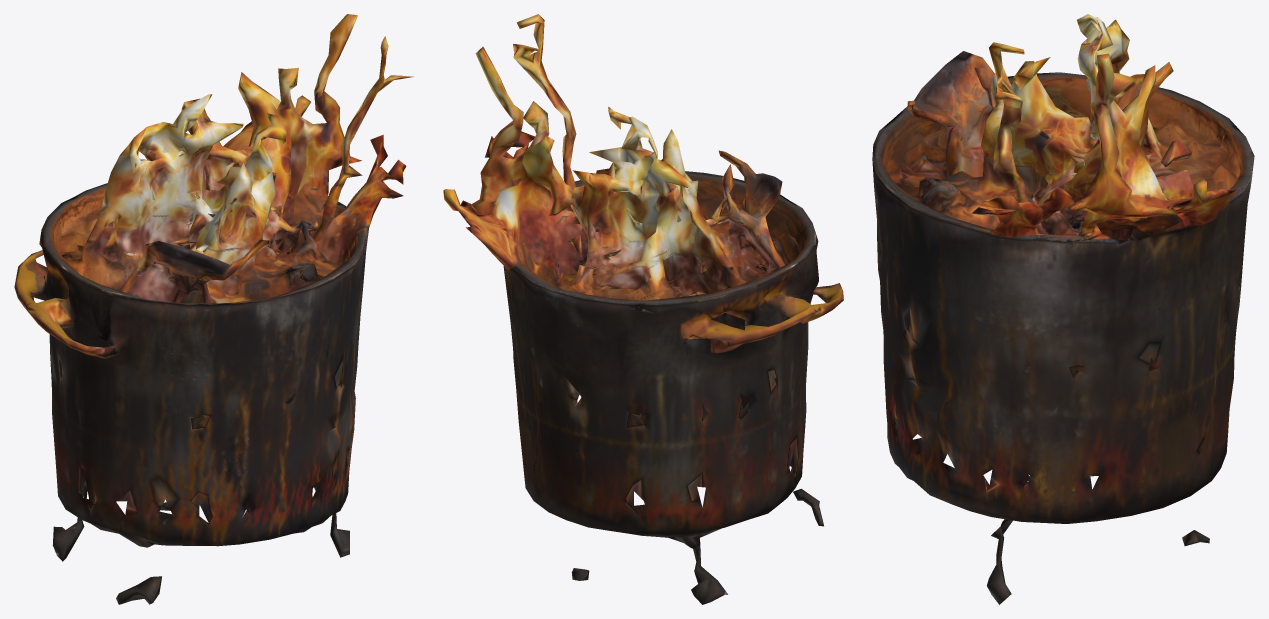
The model's file is dum_fire.glb.
3 renders of one model, left to right at view 1: azimuth 30°, elevation 25°; view 2: azimuth 150°, elevation 25°; view 3: azimuth 270°, elevation 25°, orthographic. The views are drawn at different scales.
Bounding box in the file's own units: 1.47 × 1.98 × 1.17.
1 material, 1 textured.
